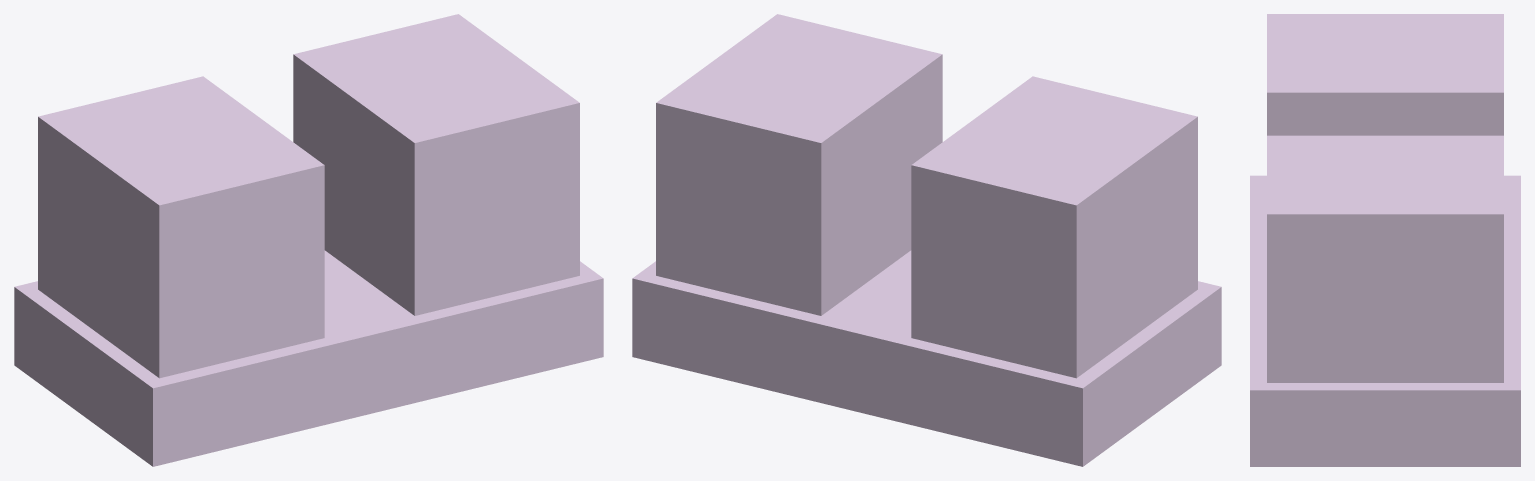
Rendered from TPL-TWIN.glb.
3 renders of one model, left to right at view 1: azimuth 30°, elevation 25°; view 2: azimuth 150°, elevation 25°; view 3: azimuth 270°, elevation 25°, orthographic. The views are drawn at different scales.
Visible parts, largest first — view 1: Twin Towers; view 2: Twin Towers; view 3: Twin Towers.
Boxes of the visible parts, x1=… form: Twin Towers: x1=14, y1=14, x2=603, y2=466; Twin Towers: x1=632, y1=14, x2=1221, y2=466; Twin Towers: x1=1250, y1=14, x2=1520, y2=466.
Size of the model in its own units: 22 by 11.73 by 11.73.
